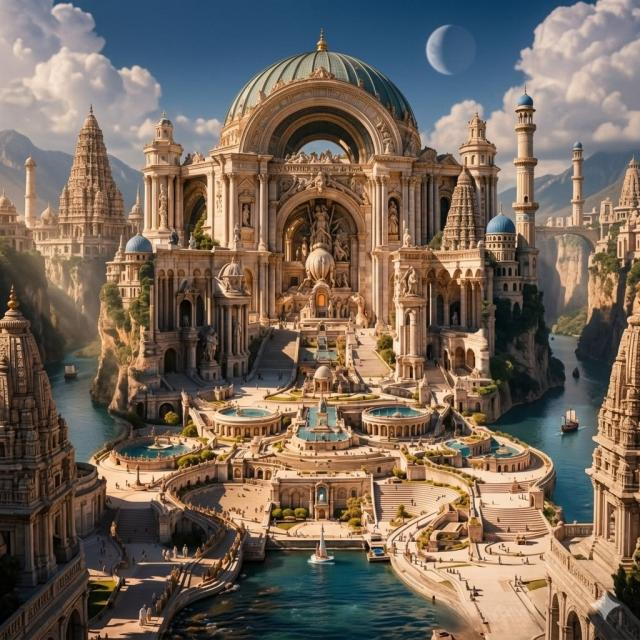castle: (10, 0, 599, 505)
